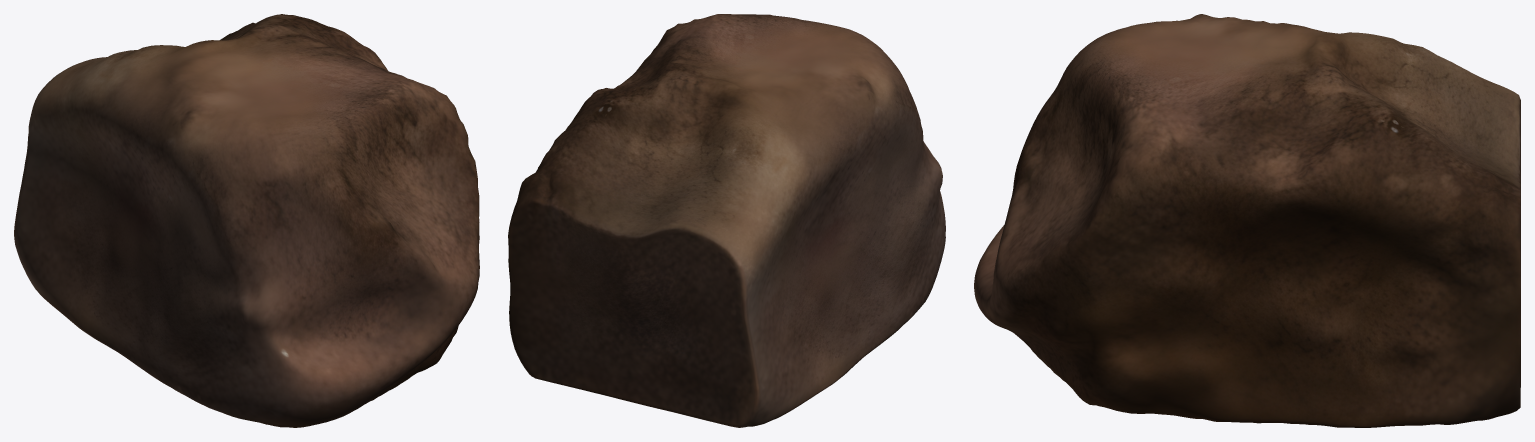
The picture shows the model from 3 angles, left to right: view 1: azimuth 30°, elevation 25°; view 2: azimuth 150°, elevation 25°; view 3: azimuth 270°, elevation 25°; orthographic projection. The views are drawn at different scales.
Visible parts, largest first — view 1: model; view 2: model; view 3: model.
Boxes of the visible parts, left/top/right/bottom form: model: left=14, top=14, right=479, bottom=427; model: left=508, top=14, right=945, bottom=427; model: left=974, top=14, right=1520, bottom=427.
Size of the model in its own units: 1.18 by 1.1 by 1.81.
Materials: 1 (1 with a texture image).
